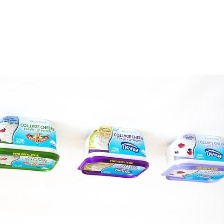plastic_box: (69, 121, 153, 185), (0, 110, 63, 180), (156, 128, 224, 189)
